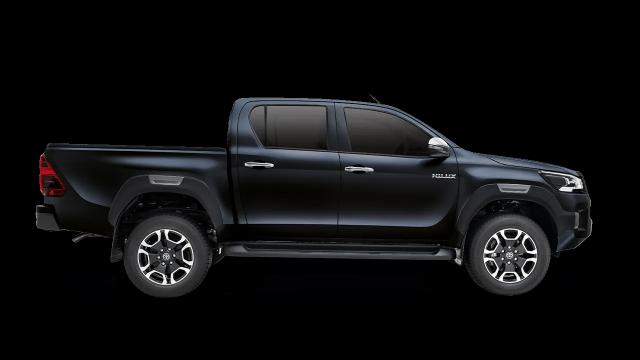pickup-truck: (39, 100, 584, 300)
